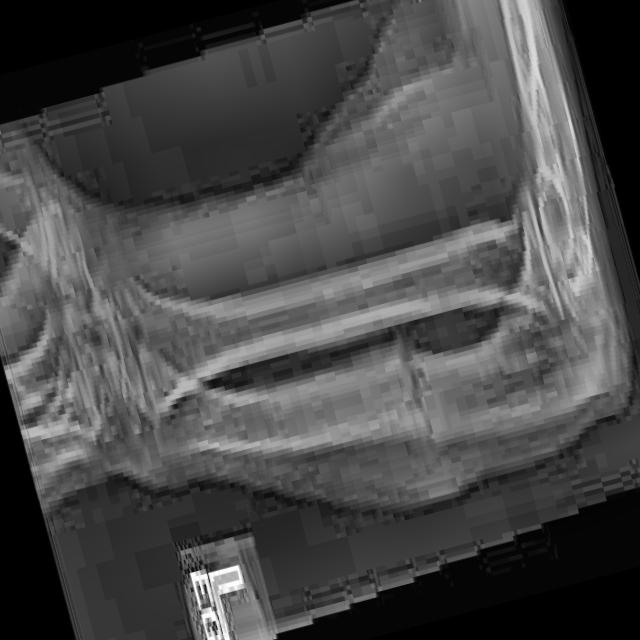forearm fracture: (361, 299, 475, 476)
